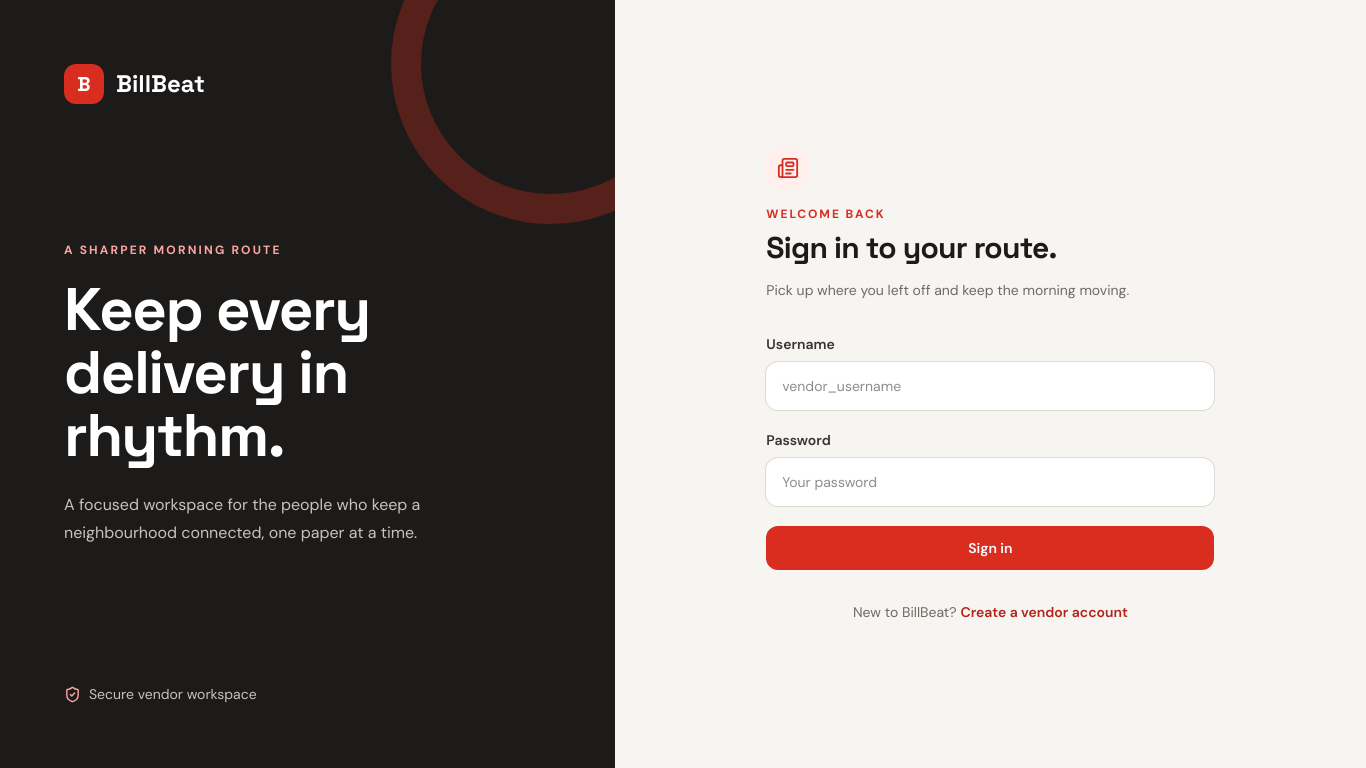
Scenario: authentication › shows invalid credential errors from the backend
The image size is (1366, 768).
Type "wrong" into the field labelled "Username" at x=990, y=386, box x1=766 y1=362 x2=1214 y2=410
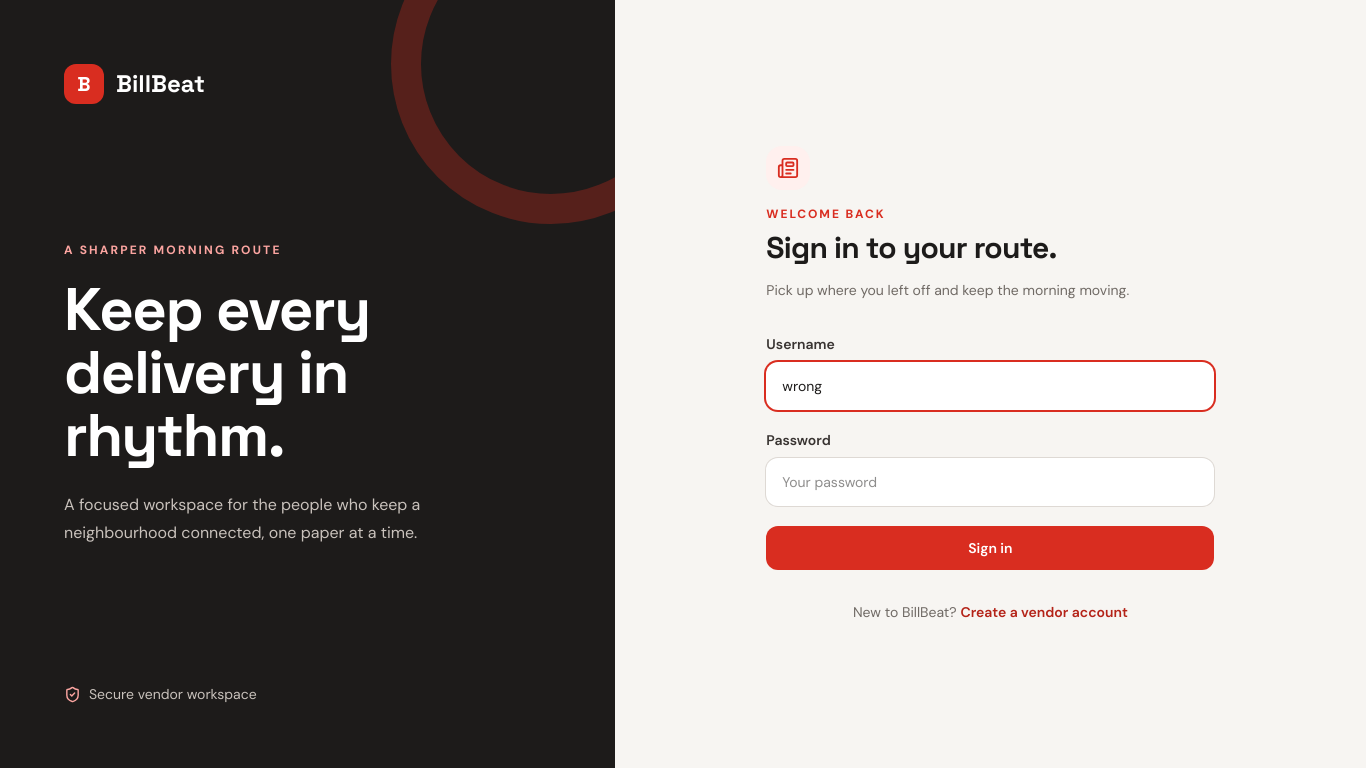
Type "wrong" into the password field labelled "Password" at x=990, y=482, box x1=766 y1=458 x2=1214 y2=506
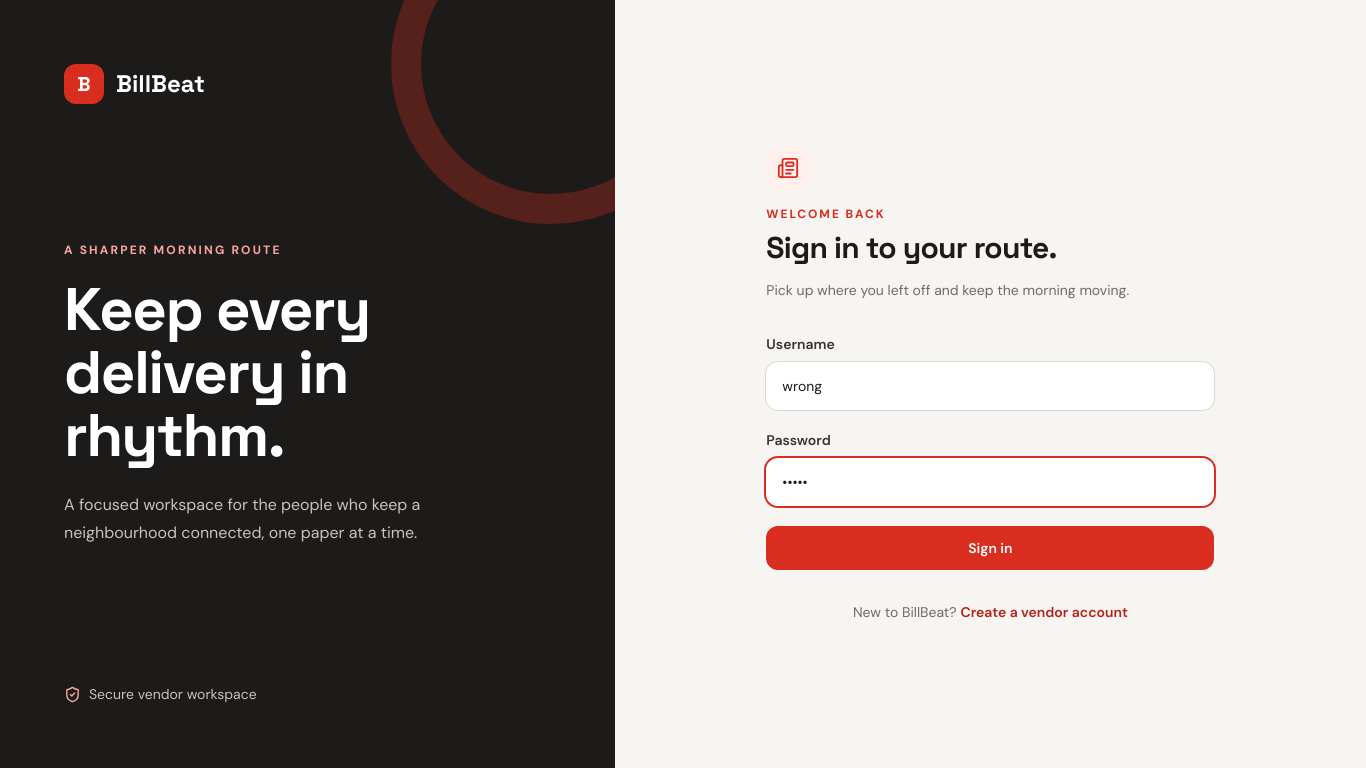
Click the button "Sign in" at x=990, y=548, box x1=766 y1=526 x2=1214 y2=570
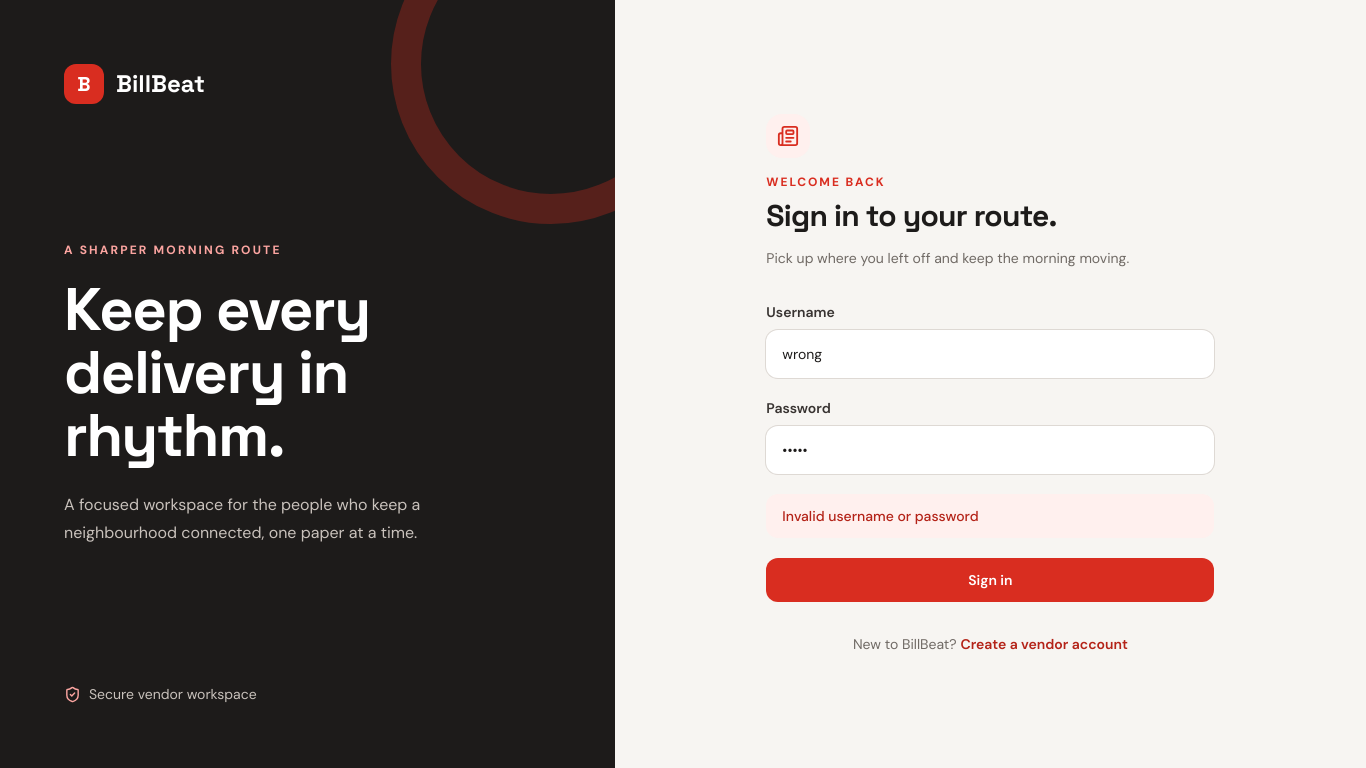
expect the text "Invalid username or password" is shown: met, box x1=766 y1=494 x2=1214 y2=538
